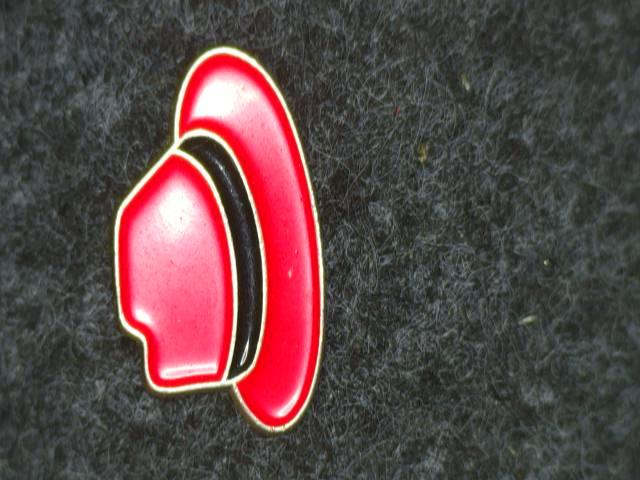Red-Hat: (88, 19, 364, 447)
